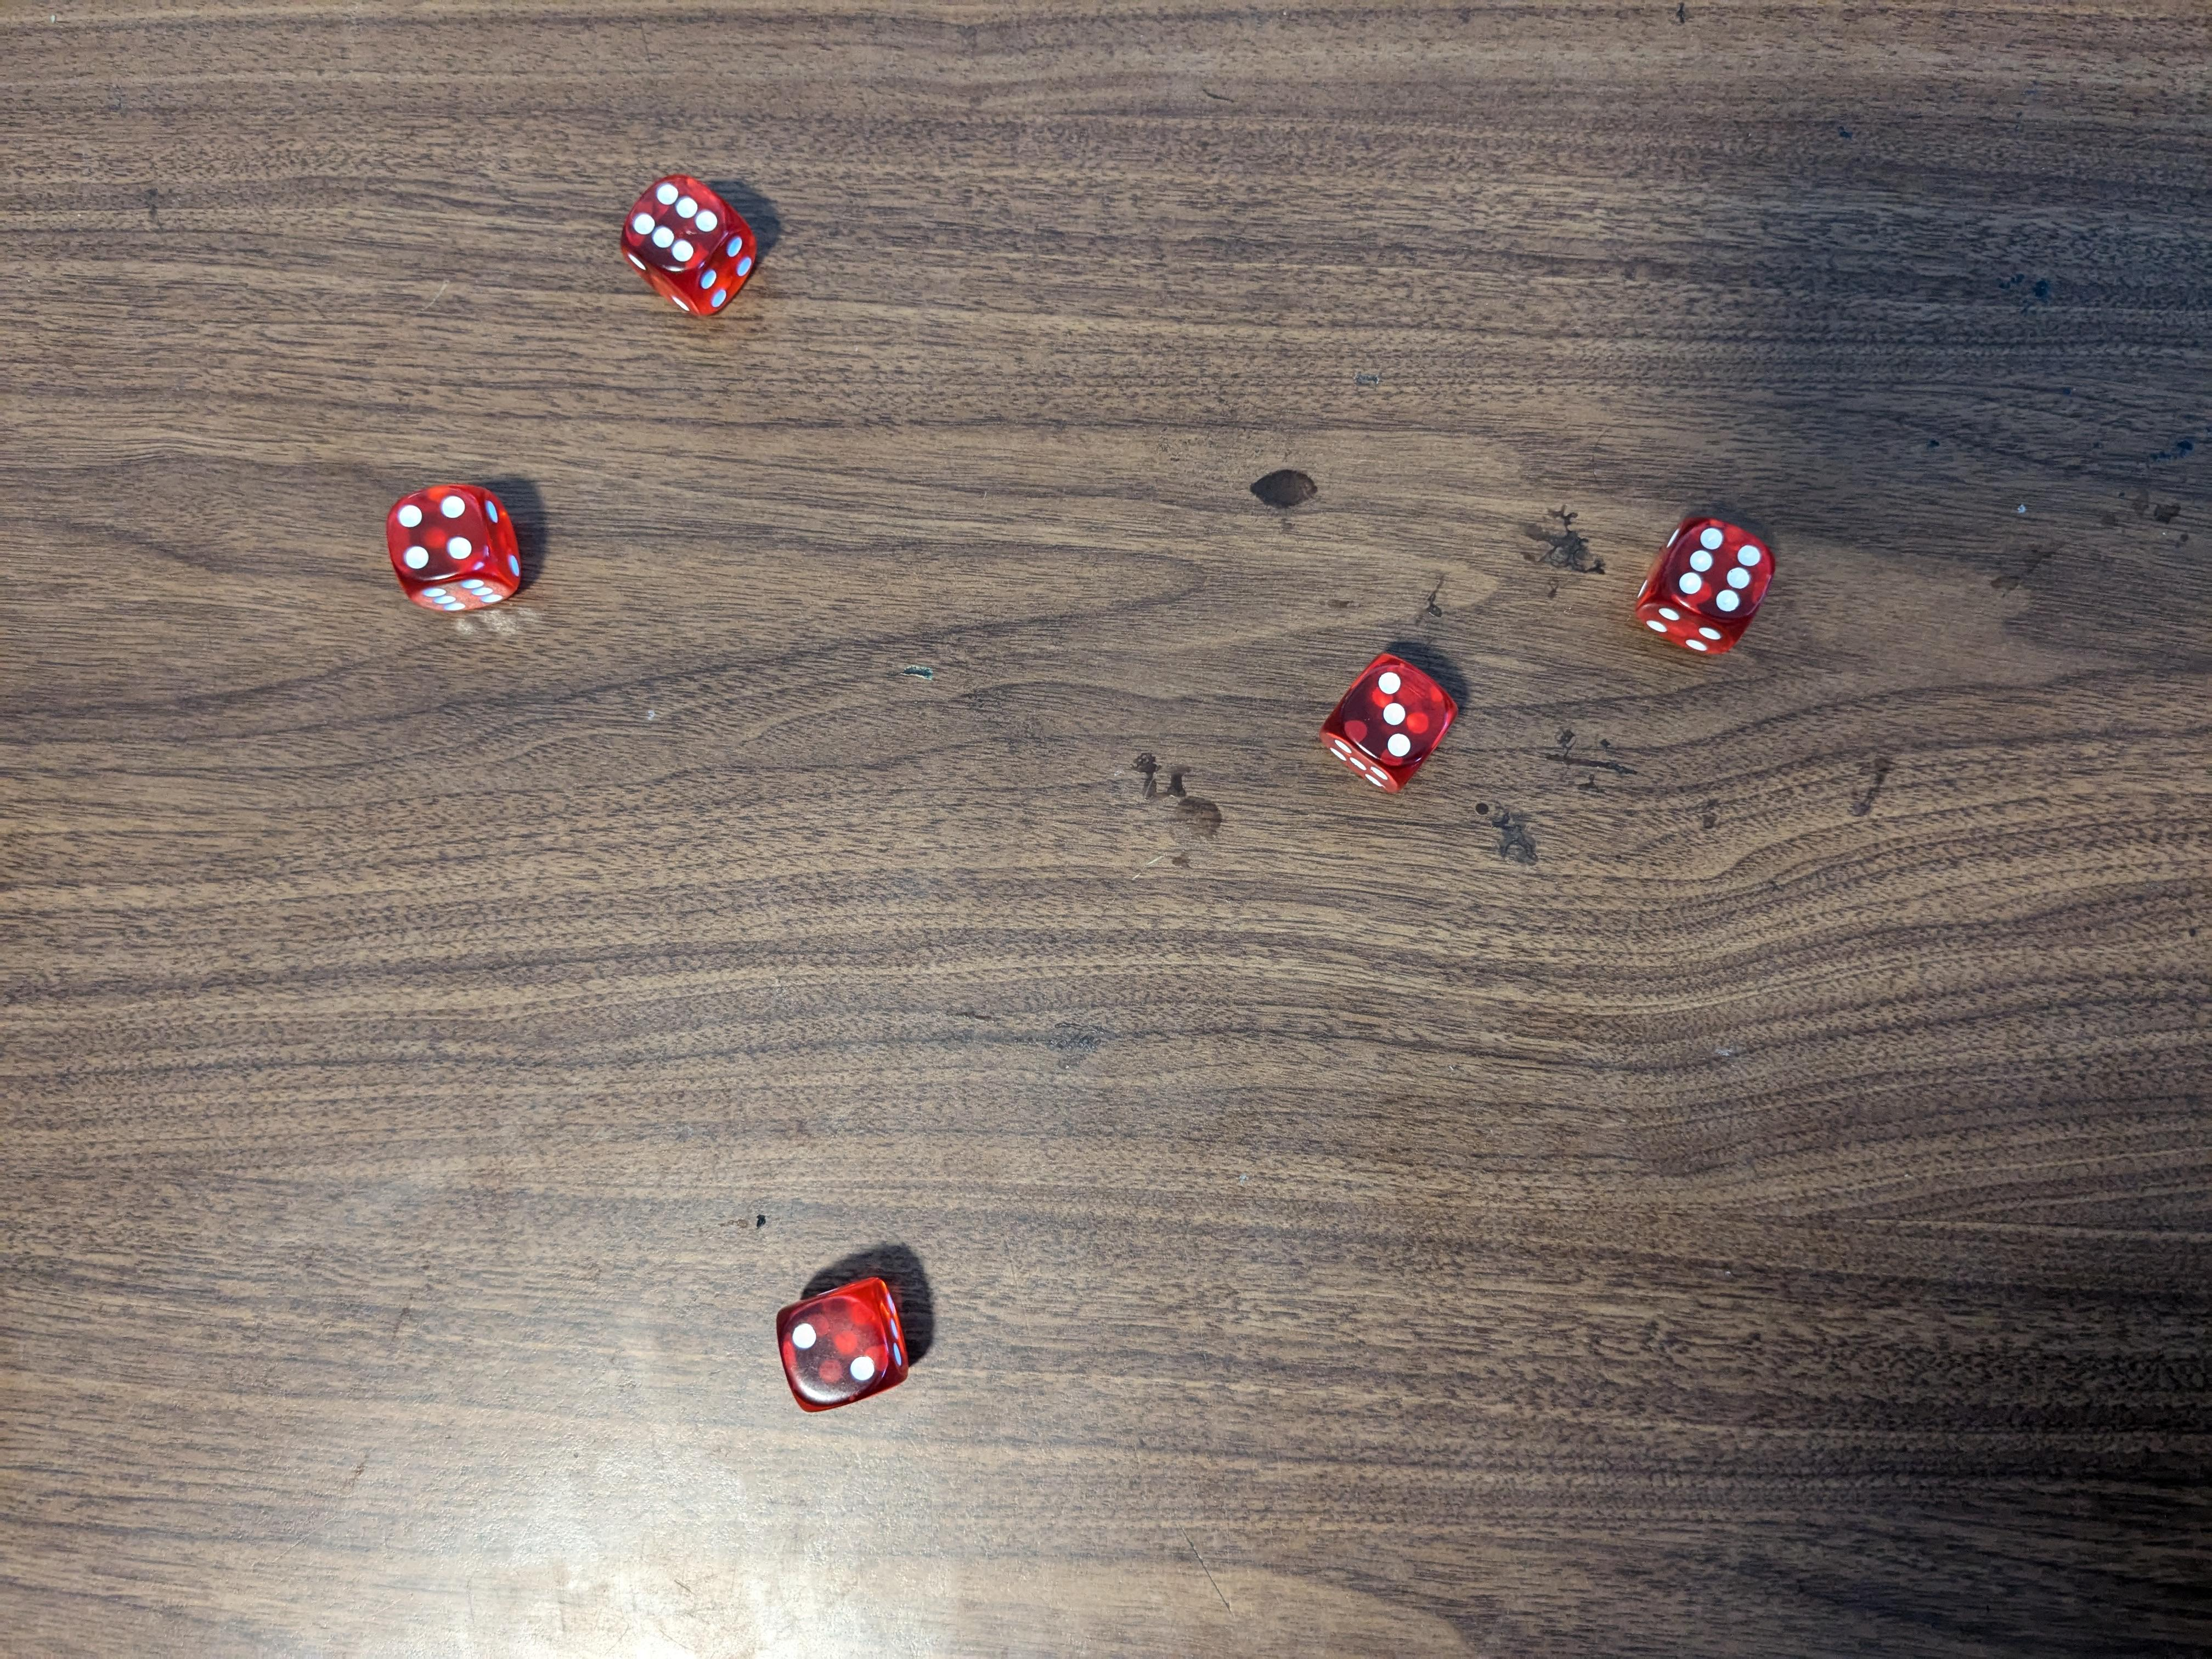four: (383, 476, 529, 613)
six: (1637, 509, 1778, 652), (624, 173, 761, 310)
three: (1317, 648, 1463, 793)
two: (773, 1272, 909, 1408)
